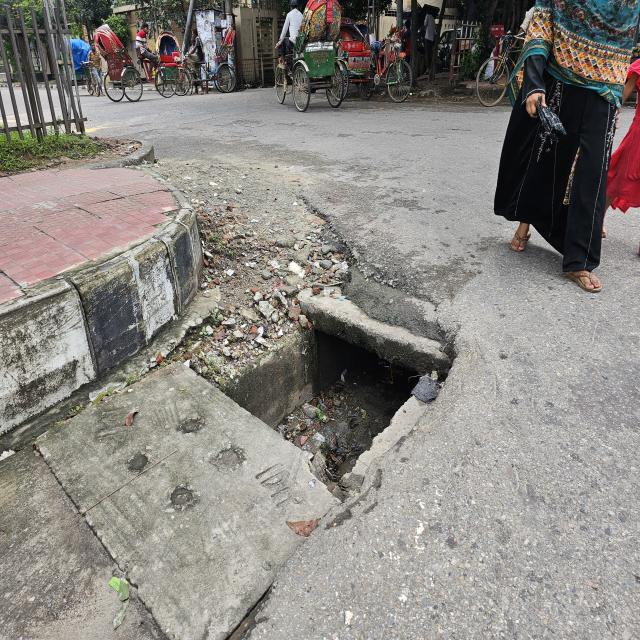drain_inlet: (208, 303, 435, 487)
